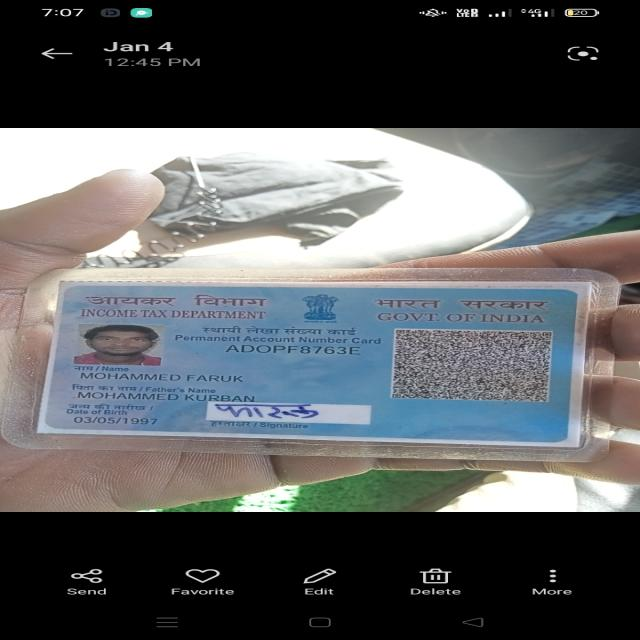pan_card: (38, 286, 578, 442)
